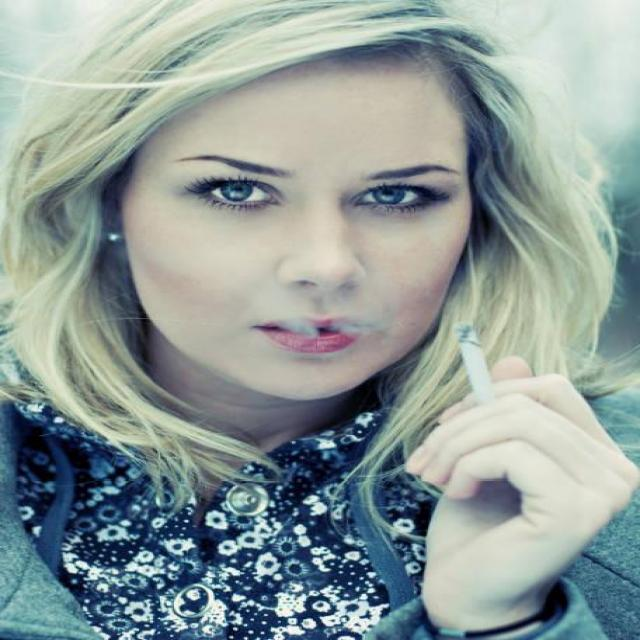Сигарета: (458, 323, 501, 408)
Тело: (12, 2, 640, 640)
